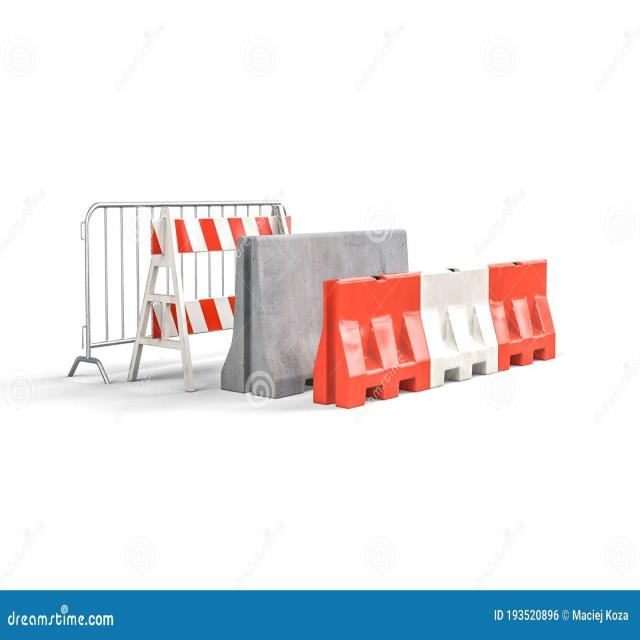cone: (304, 241, 558, 413), (68, 200, 292, 387)
